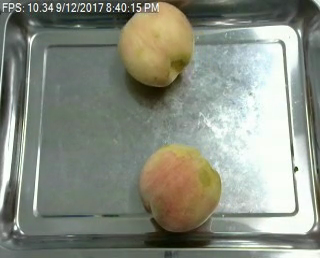Peach: (137, 143, 222, 232), (118, 1, 195, 88)
